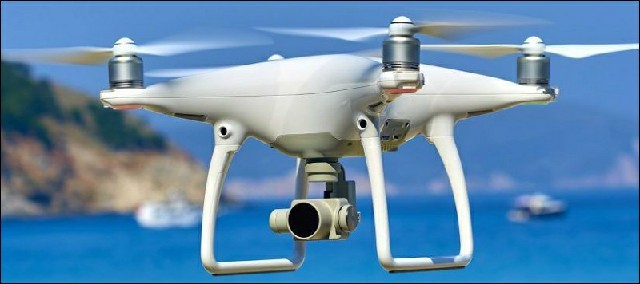maybay_khongnguoilai: (25, 24, 612, 270)
